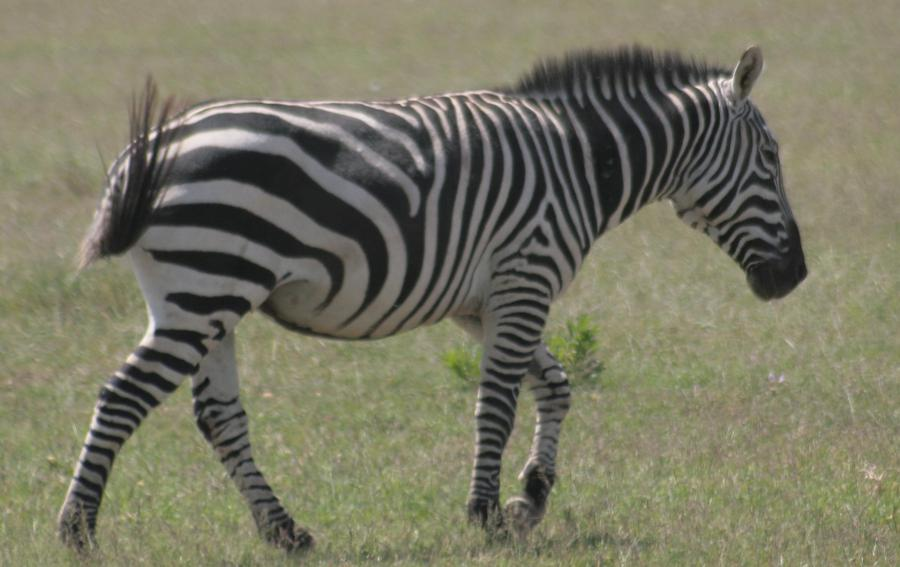zebra_plains: (123, 67, 608, 350)
